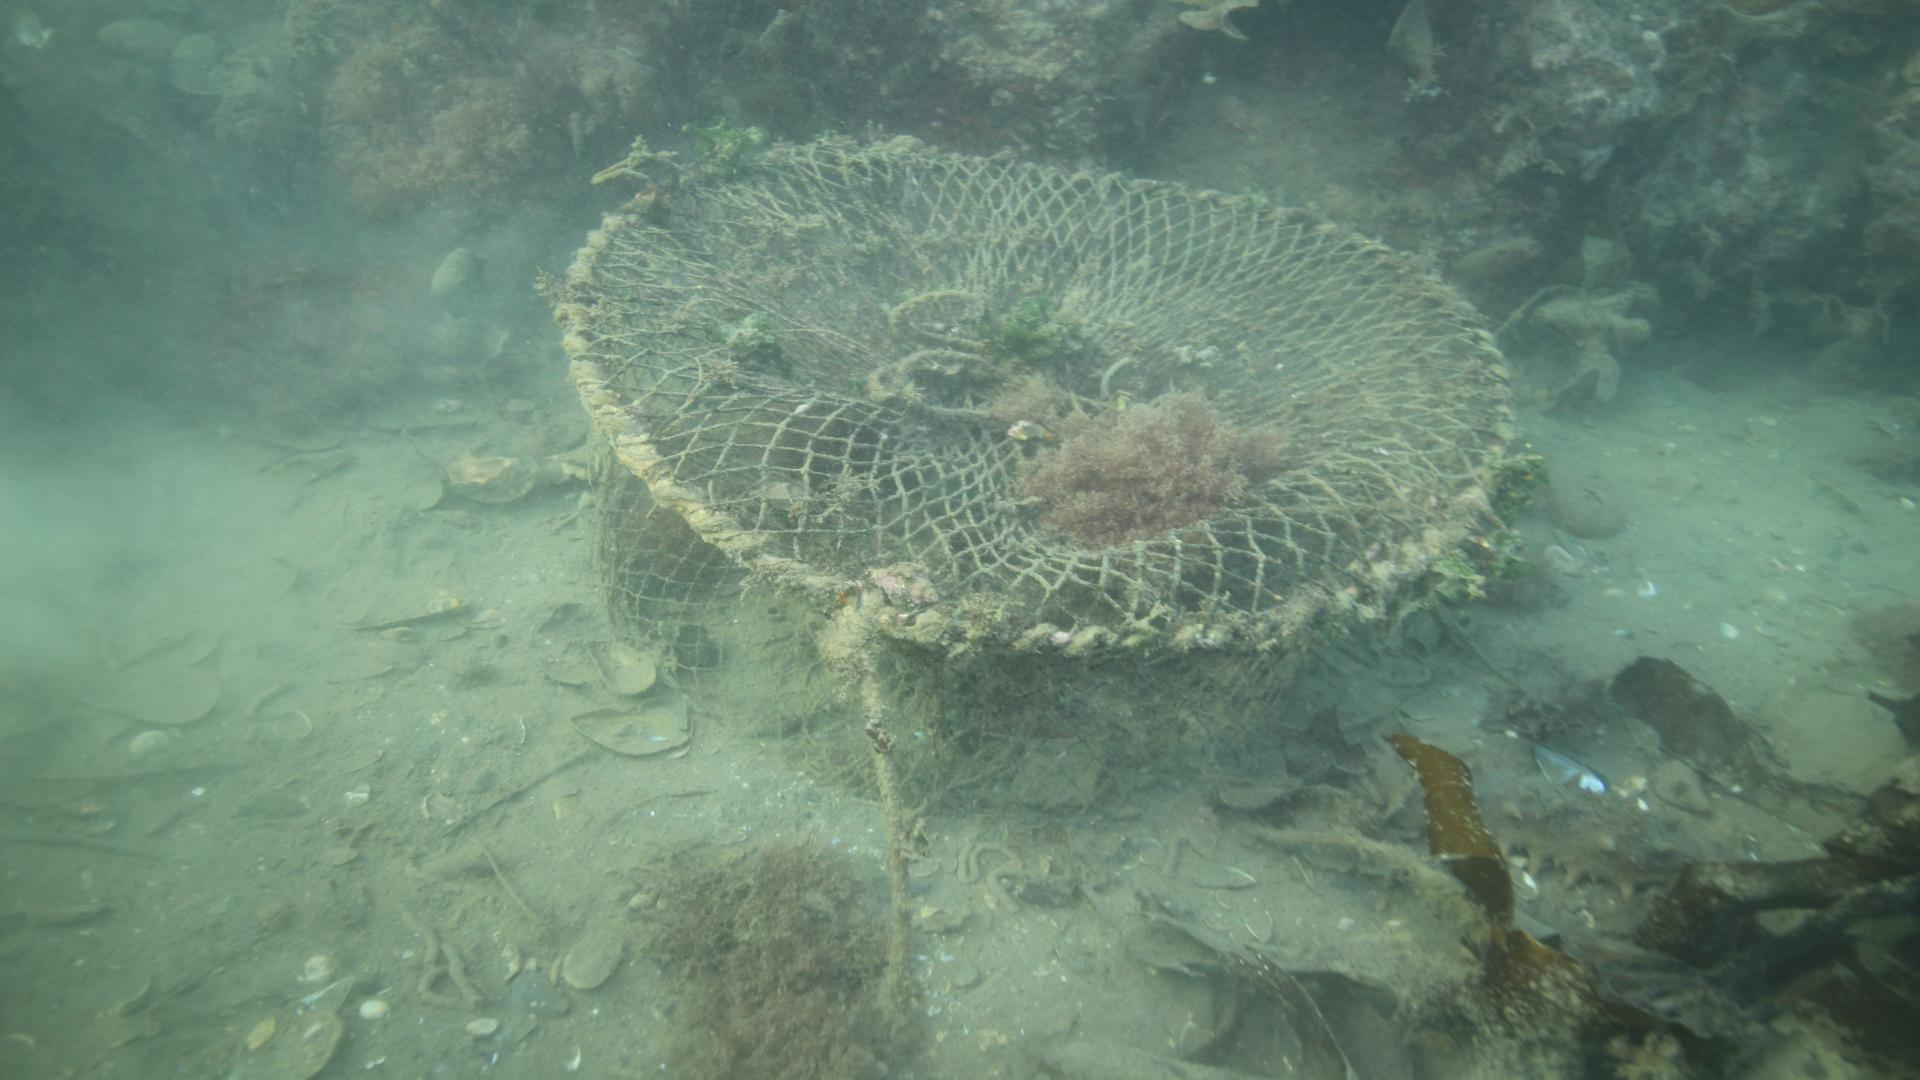circular fish trap: (549, 131, 1515, 820)
